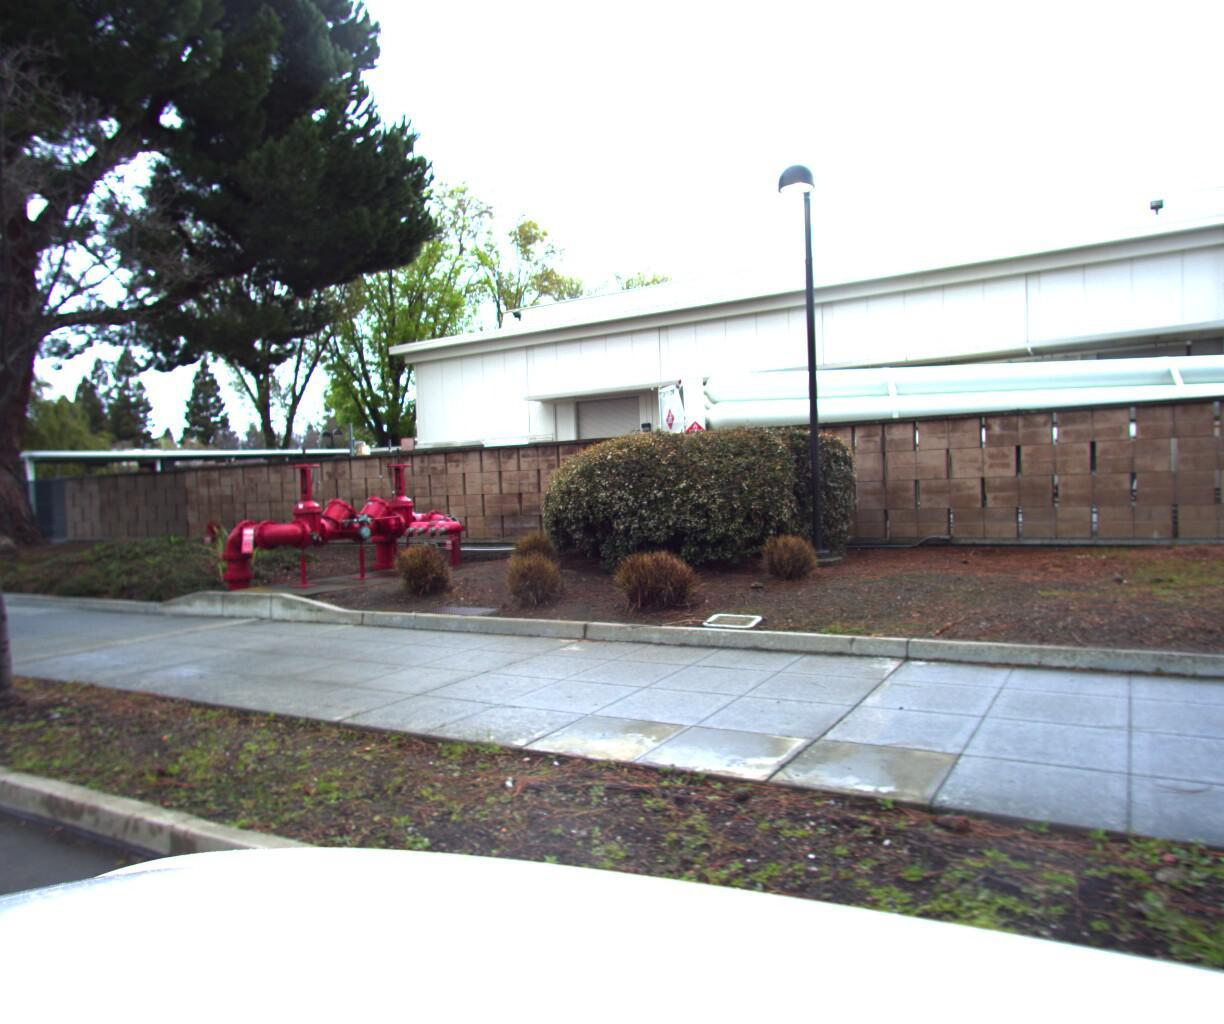truck: (441, 437, 595, 530)
